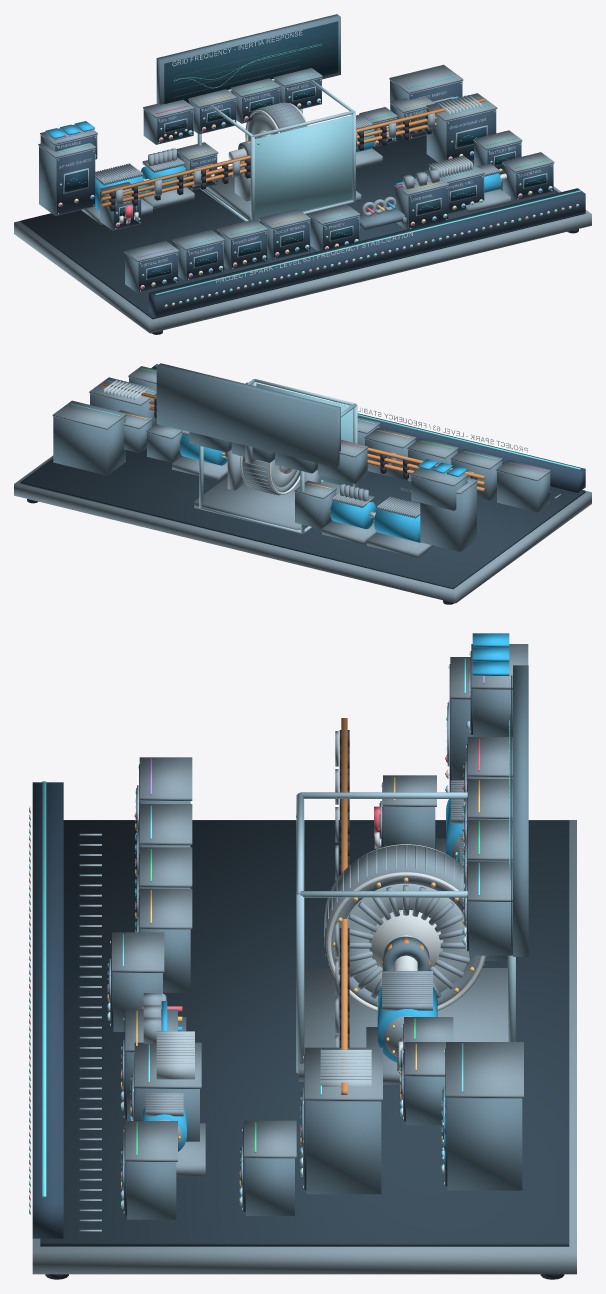
File: Level63_Complete_ArtKit_Showcase.fbx
3 views of the same model, one above another, from view 1: azimuth 30°, elevation 25°; view 2: azimuth 150°, elevation 25°; view 3: azimuth 270°, elevation 25° (orthographic). The views are drawn at different scales.
Parts seen in each view (by area): view 1: Model::L63_IndustrialFrequencyLabBase__DarkWorkSurface, Model::L63_IndustrialFrequencyLabBase__FrontOperatorConsole, Model::L63_IndustrialFrequencyLabBase__CNCIndustrialDeck, Model::L63_TransparentFlywheelSafetyEnclosure__Polycarbonate, Model::L63_HolographicFrequencyMonitor__HoloScreen, Model::L63_VirtualSynchronousMachineController__VirtualSynch (×3), Model::L63_HolographicFrequencyMonitor__MonitorFrame, Model::L63_FrequencyDroopController__FrequencyDroopControlle (×3), Model::L63_Regulated5VControlSupply__Regulated5VControlSuppl (×3), Model::L63_ThreePhaseMicrogridSource__GridSourceFace, Model::L63_ThreePhaseMicrogridSource__GridSourceCase, Model::L63_GridFormingInverter__GridFormingInverterFace (+35 smaller); view 2: Model::L63_IndustrialFrequencyLabBase__DarkWorkSurface, Model::L63_HolographicFrequencyMonitor__MonitorFrame, Model::L63_IndustrialFrequencyLabBase__CNCIndustrialDeck, Model::L63_BatteryEnergyBuffer__BatteryEnergyBufferCase, Model::L63_HighInertiaFlywheelRotor__FlywheelMountBase, Model::L63_ThreePhaseMicrogridSource__GridSourceCase, Model::L63_IndustrialFrequencyLabBase__FrontOperatorConsole, Model::L63_VirtualSynchronousMachineController__VirtualSynch (×2), Model::L63_FlywheelMotorGenerator__FlywheelBidirectionalMach (×2), Model::L63_FrequencyDroopController__FrequencyDroopControlle (×2), Model::L63_RenewableSourceSimulator__RenewableSimCase, Model::L63_BatteryEnergyBuffer__BatteryEnergyBufferCrown (+30 smaller); view 3: Model::L63_IndustrialFrequencyLabBase__DarkWorkSurface, Model::L63_IndustrialFrequencyLabBase__CNCIndustrialDeck, Model::L63_IndustrialFrequencyLabBase__FrontOperatorConsole, Model::L63_HighInertiaFlywheelRotor__FlywheelMountBase, Model::L63_GridFormingInverter__GridFormingInverterCase, Model::L63_BatteryEnergyBuffer__BatteryEnergyBufferCase, Model::L63_HighInertiaFlywheelRotor__OuterInertialRim, Model::L63_Regulated5VControlSupply__Regulated5VControlSuppl (×2), Model::L63_BatteryManagementModule__BatteryManagementModuleC (×2), Model::L63_HolographicFrequencyMonitor__MonitorFrame, Model::L63_BatteryEnergyBuffer__BatteryEnergyBufferCrown, Model::L63_PowerQualityEventRecorder__PowerQualityEventRecor (×2) (+32 smaller).
Part boxes in pixels (x1,y1,x2,y2): Model::L63_IndustrialFrequencyLabBase__DarkWorkSurface: (20,135,585,319); Model::L63_IndustrialFrequencyLabBase__FrontOperatorConsole: (149,188,585,316); Model::L63_IndustrialFrequencyLabBase__CNCIndustrialDeck: (14,186,591,333); Model::L63_TransparentFlywheelSafetyEnclosure__Polycarbonate: (255,115,352,221); Model::L63_HolographicFrequencyMonitor__HoloScreen: (164,21,338,103); Model::L63_VirtualSynchronousMachineController__VirtualSynch (×3): (124,241,179,293); Model::L63_HolographicFrequencyMonitor__MonitorFrame: (156,14,340,104); Model::L63_FrequencyDroopController__FrequencyDroopControlle (×3): (172,229,224,281); Model::L63_Regulated5VControlSupply__Regulated5VControlSuppl (×3): (502,152,554,201); Model::L63_ThreePhaseMicrogridSource__GridSourceFace: (56,150,94,214); Model::L63_ThreePhaseMicrogridSource__GridSourceCase: (39,146,95,215); Model::L63_GridFormingInverter__GridFormingInverterFace: (446,110,495,160); Model::L63_IndustrialFrequencyLabBase__DarkWorkSurface: (20,448,585,589); Model::L63_HolographicFrequencyMonitor__MonitorFrame: (156,363,340,467); Model::L63_IndustrialFrequencyLabBase__CNCIndustrialDeck: (14,455,591,603); Model::L63_BatteryEnergyBuffer__BatteryEnergyBufferCase: (53,416,125,475); Model::L63_HighInertiaFlywheelRotor__FlywheelMountBase: (194,477,339,530); Model::L63_ThreePhaseMicrogridSource__GridSourceCase: (420,482,476,551); Model::L63_IndustrialFrequencyLabBase__FrontOperatorConsole: (151,364,585,492); Model::L63_VirtualSynchronousMachineController__VirtualSynch (×2): (496,460,550,512); Model::L63_FlywheelMotorGenerator__FlywheelBidirectionalMach (×2): (172,434,227,480); Model::L63_FrequencyDroopController__FrequencyDroopControlle (×2): (450,449,502,500); Model::L63_RenewableSourceSimulator__RenewableSimCase: (411,476,467,510); Model::L63_BatteryEnergyBuffer__BatteryEnergyBufferCrown: (52,400,126,429); Model::L63_IndustrialFrequencyLabBase__DarkWorkSurface: (40,820,569,1246); Model::L63_IndustrialFrequencyLabBase__CNCIndustrialDeck: (32,820,576,1274); Model::L63_IndustrialFrequencyLabBase__FrontOperatorConsole: (32,782,63,1238); Model::L63_HighInertiaFlywheelRotor__FlywheelMountBase: (298,968,507,1081); Model::L63_GridFormingInverter__GridFormingInverterCase: (306,1101,381,1194); Model::L63_BatteryEnergyBuffer__BatteryEnergyBufferCase: (447,1098,522,1190); Model::L63_HighInertiaFlywheelRotor__OuterInertialRim: (324,845,485,1006); Model::L63_Regulated5VControlSupply__Regulated5VControlSuppl (×2): (125,1121,177,1219); Model::L63_BatteryManagementModule__BatteryManagementModuleC (×2): (244,1120,296,1215); Model::L63_HolographicFrequencyMonitor__MonitorFrame: (513,665,528,956); Model::L63_BatteryEnergyBuffer__BatteryEnergyBufferCrown: (446,1042,523,1098); Model::L63_PowerQualityEventRecorder__PowerQualityEventRecor (×2): (467,861,512,955).
Bounding box in the file's own units: 1360 × 468 × 730.
